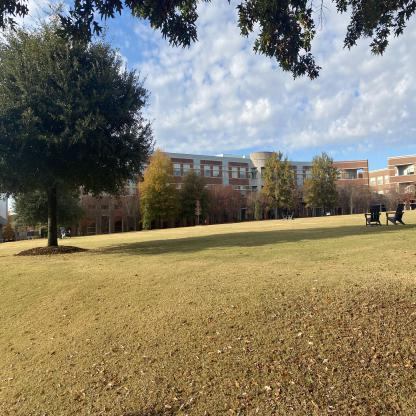EB-1: (61, 127, 376, 232)
